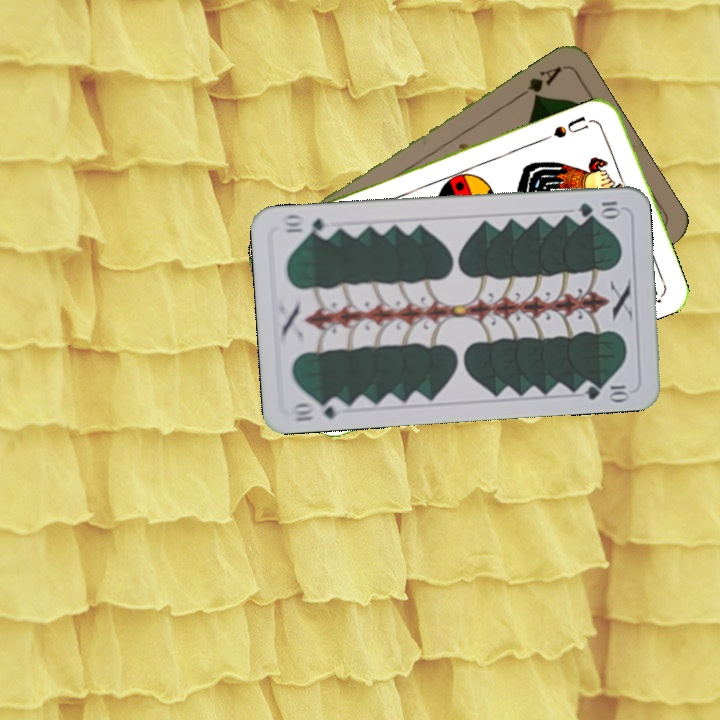G10: (287, 394, 347, 425), (575, 197, 623, 219)
GA: (512, 62, 564, 103)
SU: (549, 112, 598, 141)
